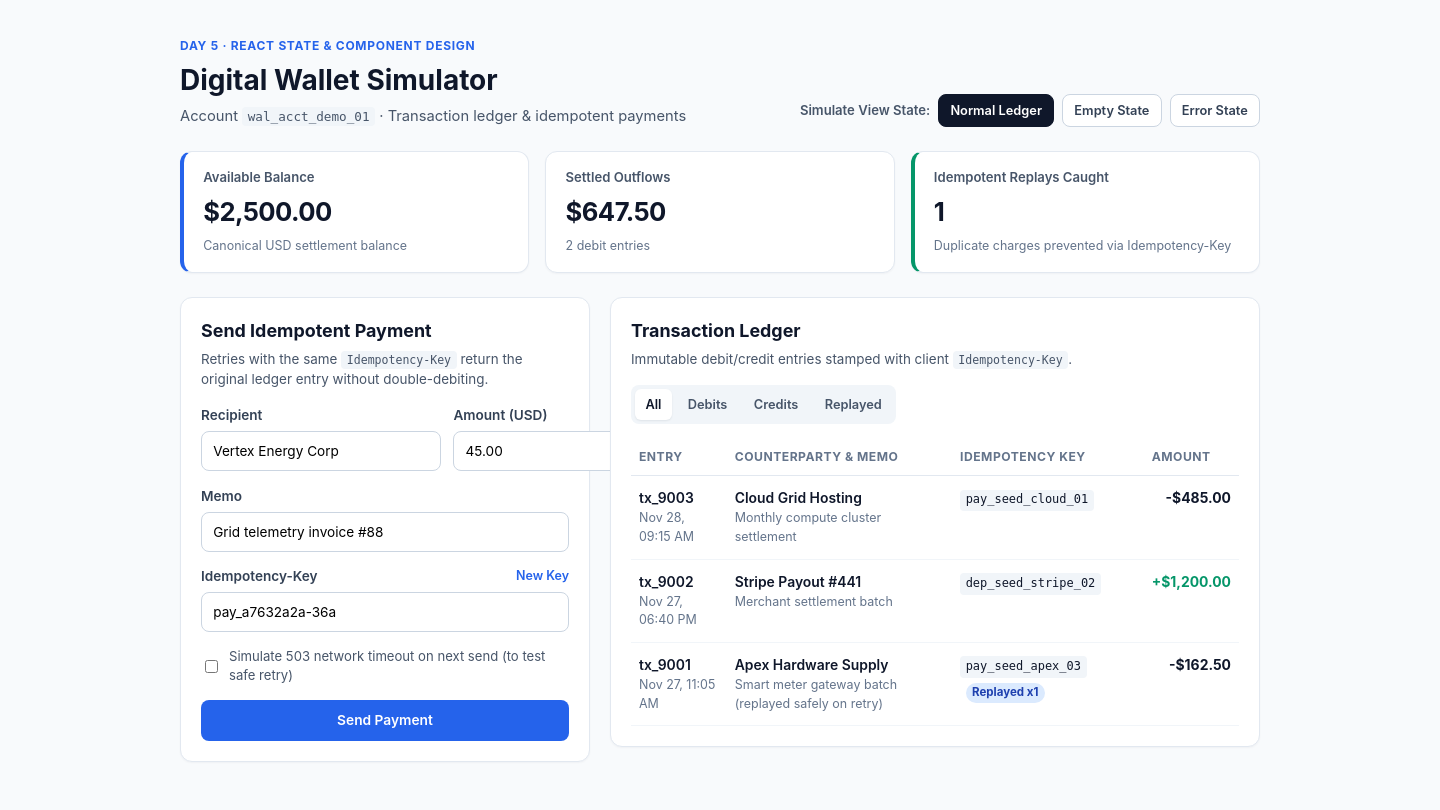
Test: WalletDashboard (Day 5 React State & Component Design) › demonstrates error state on ledger sync failure and allows retry
Check: the text "$2,500.00" is shown, box left=203, top=196, right=332, bottom=227
Click the button "Error State" at (1215, 110), box left=1170, top=94, right=1260, bottom=127
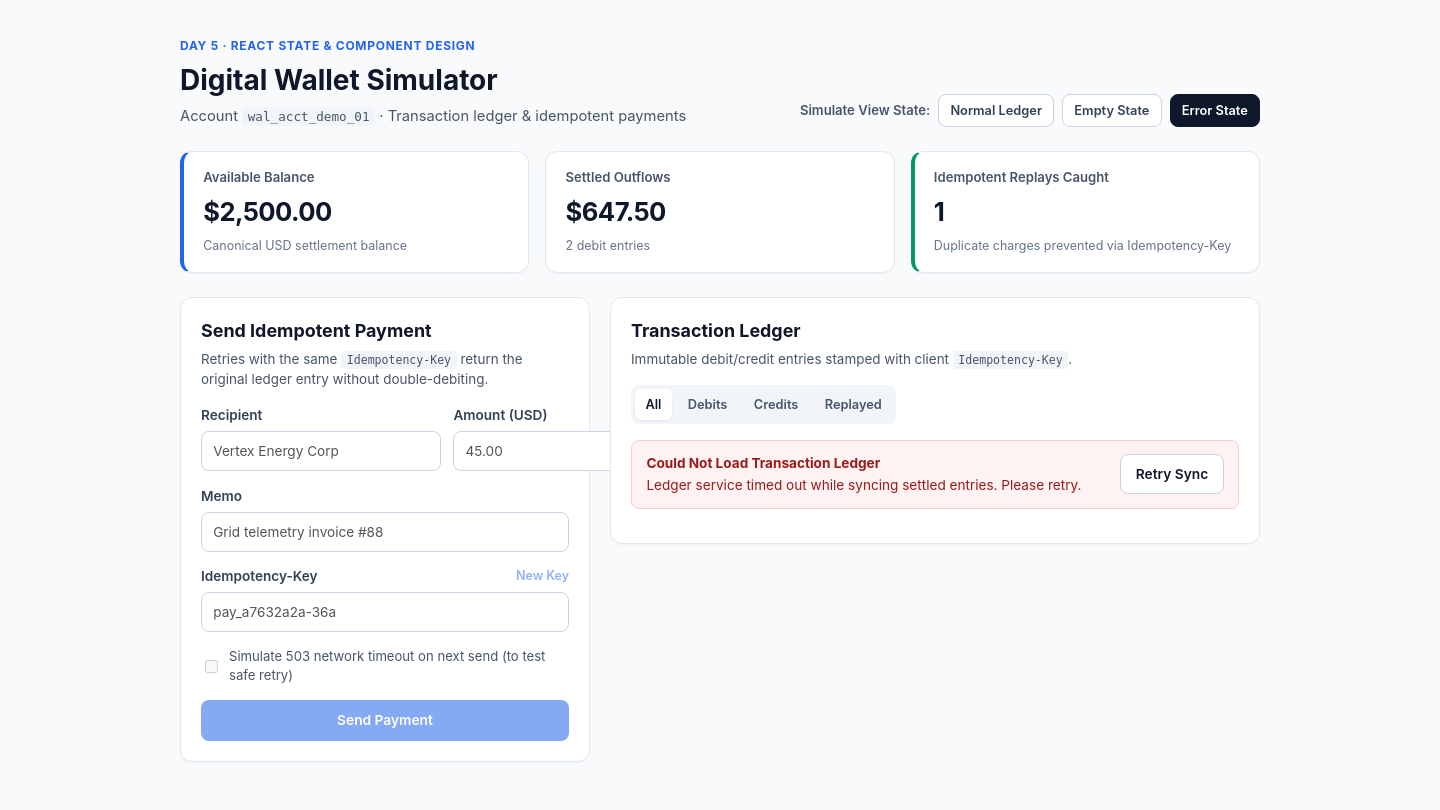
Check: the text "Could Not Load Transaction Ledger" is shown, box left=646, top=455, right=880, bottom=471
Check: the button "Retry Sync" is shown, box left=1120, top=454, right=1224, bottom=494
